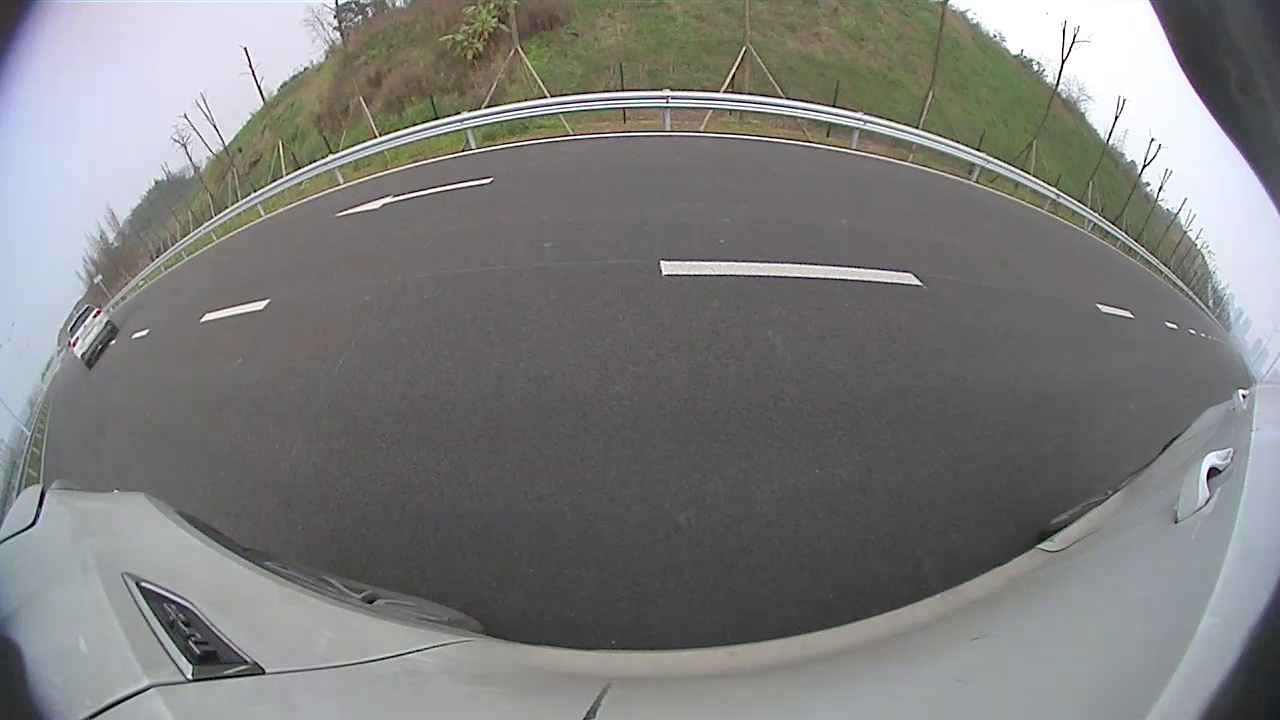car: (67, 304, 119, 369)
